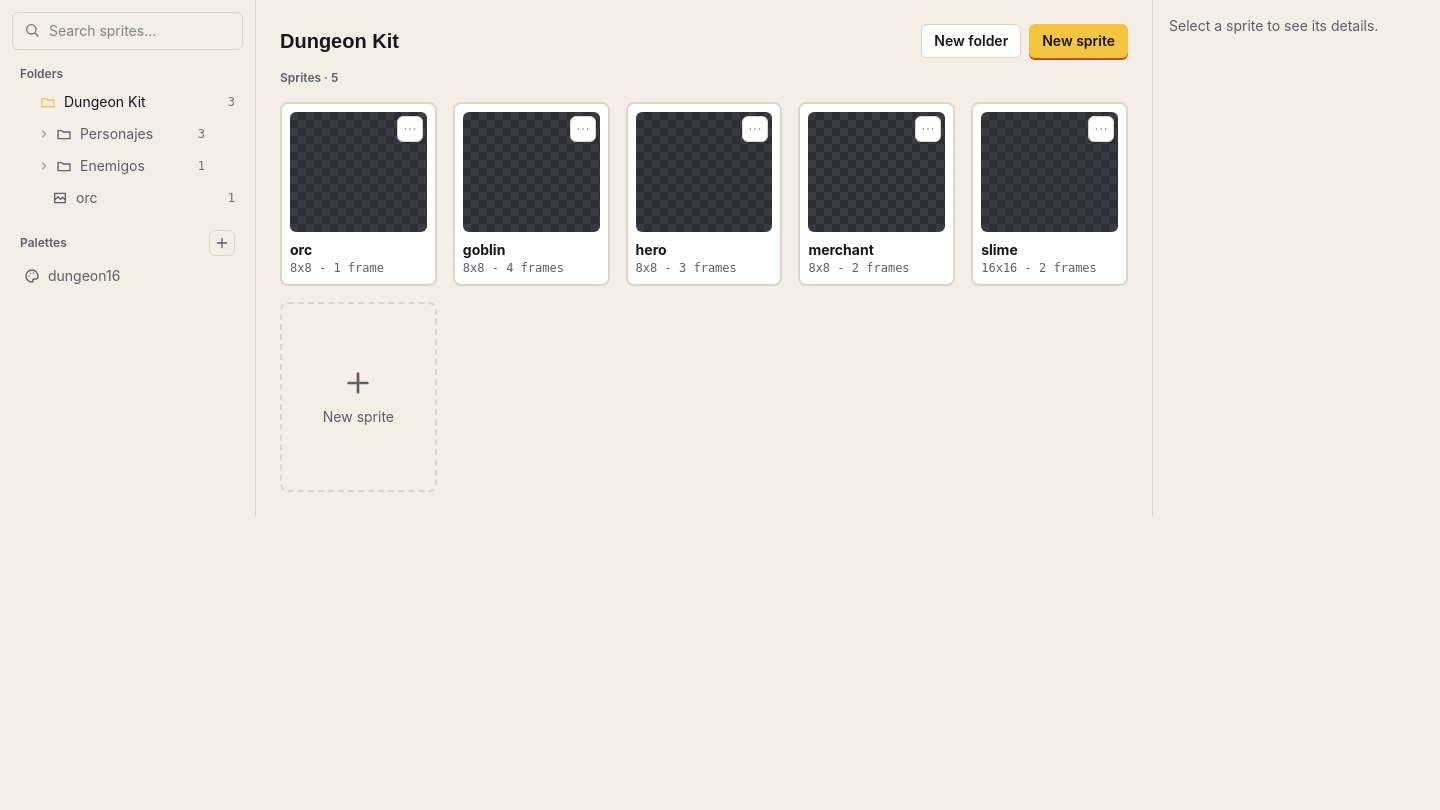
Test: New sprite dialog › creates a sprite with a custom size and opens it
This screenshot has width=1440, height=810.
Click the 1st button "New sprite": (1079, 41) [1029,24,1128,58]
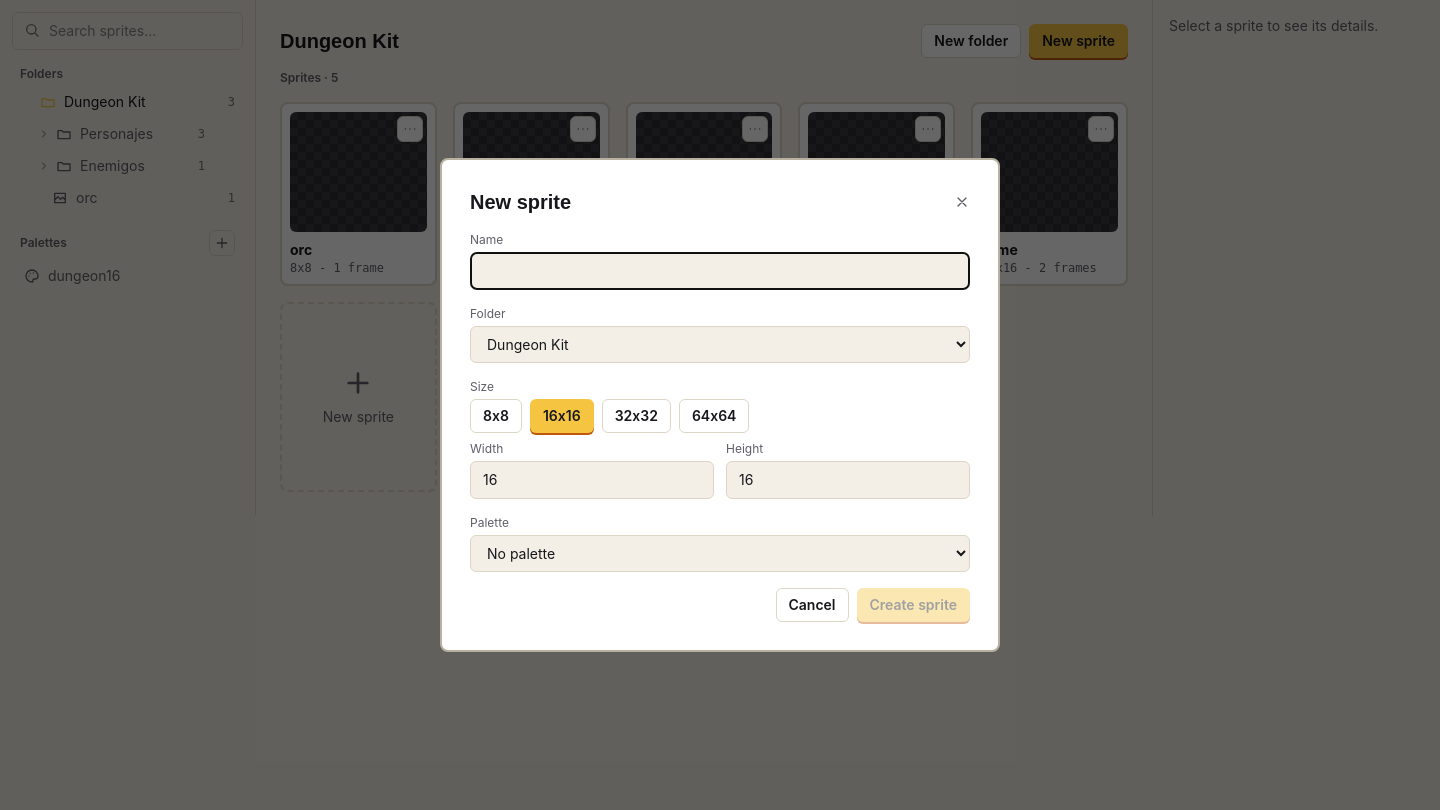
In the field labelled "Name": (720, 271) [470,252,970,290], type "goblin"
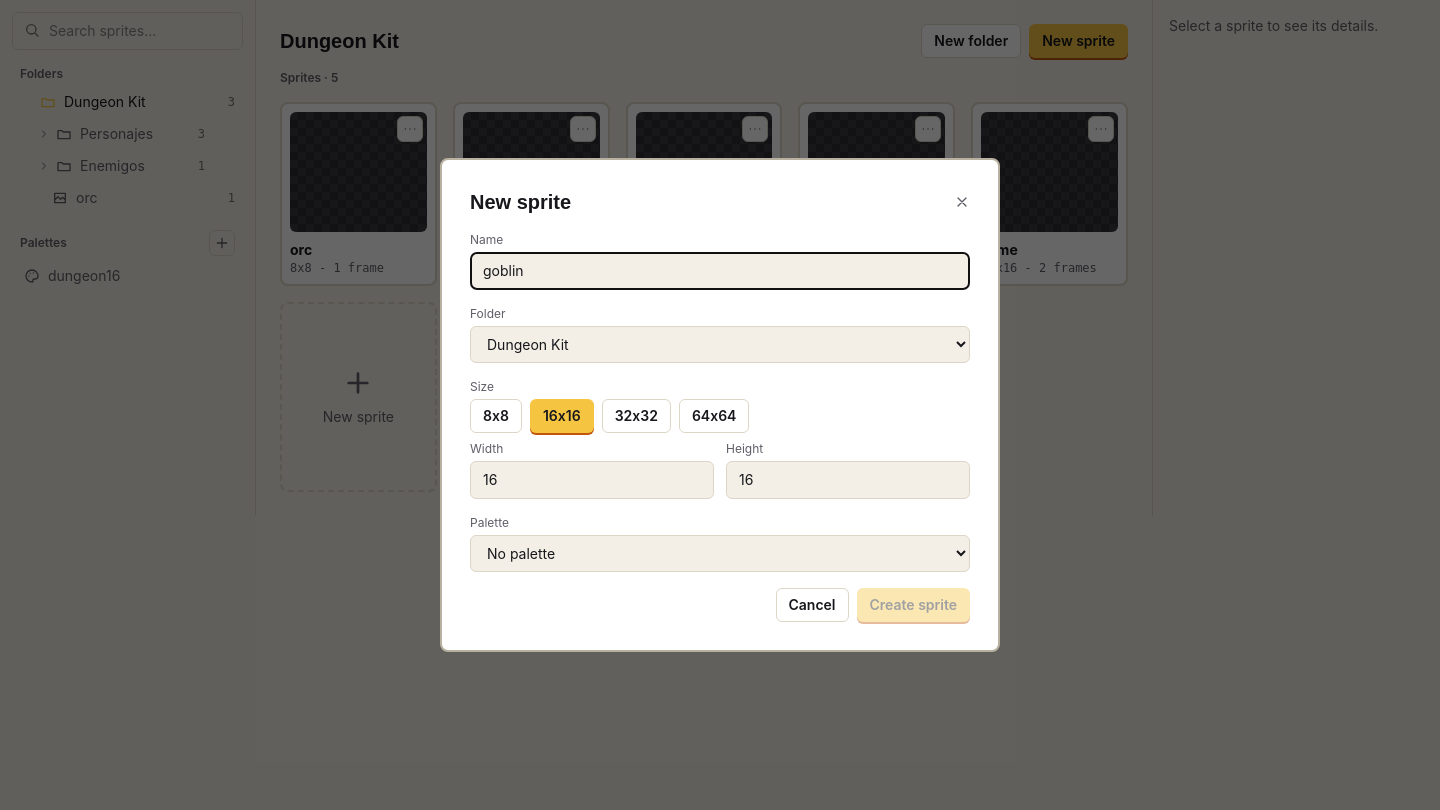
Replace the text in the number field labelled "Width" with "120": (592, 480) [470,461,714,499]
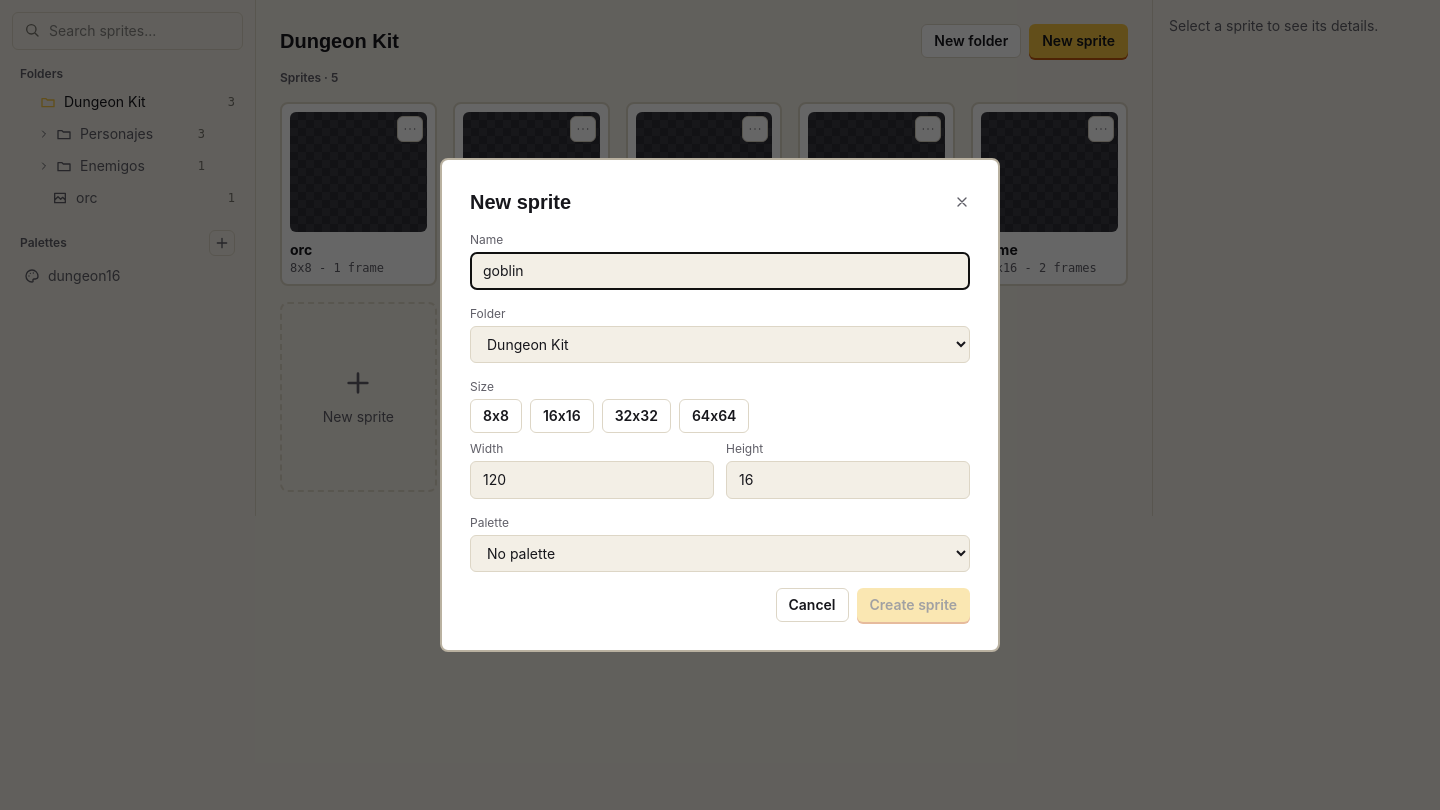
Replace the text in the number field labelled "Height" with "30": (848, 480) [726,461,970,499]
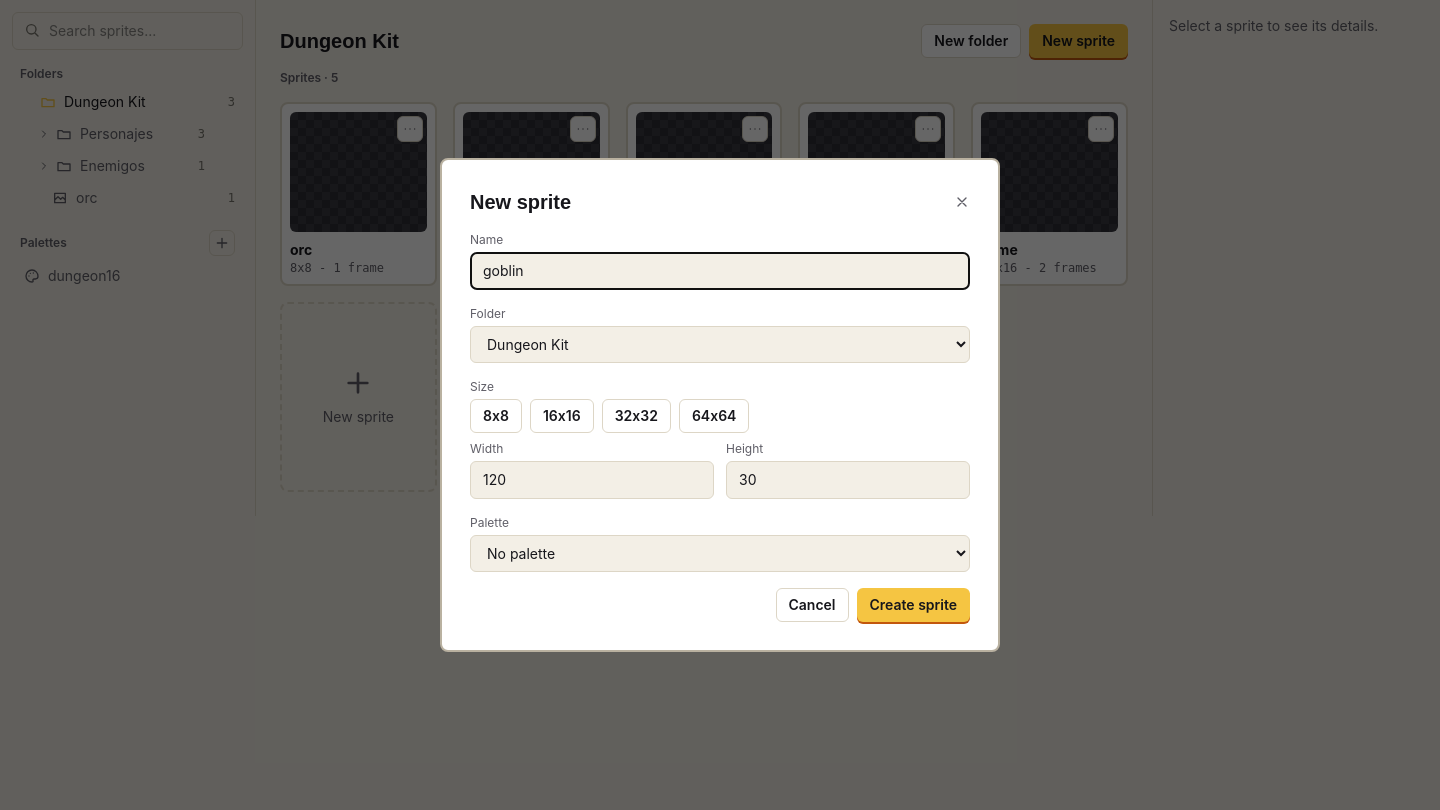
Click the button "Create sprite": (913, 605) [856,588,970,622]
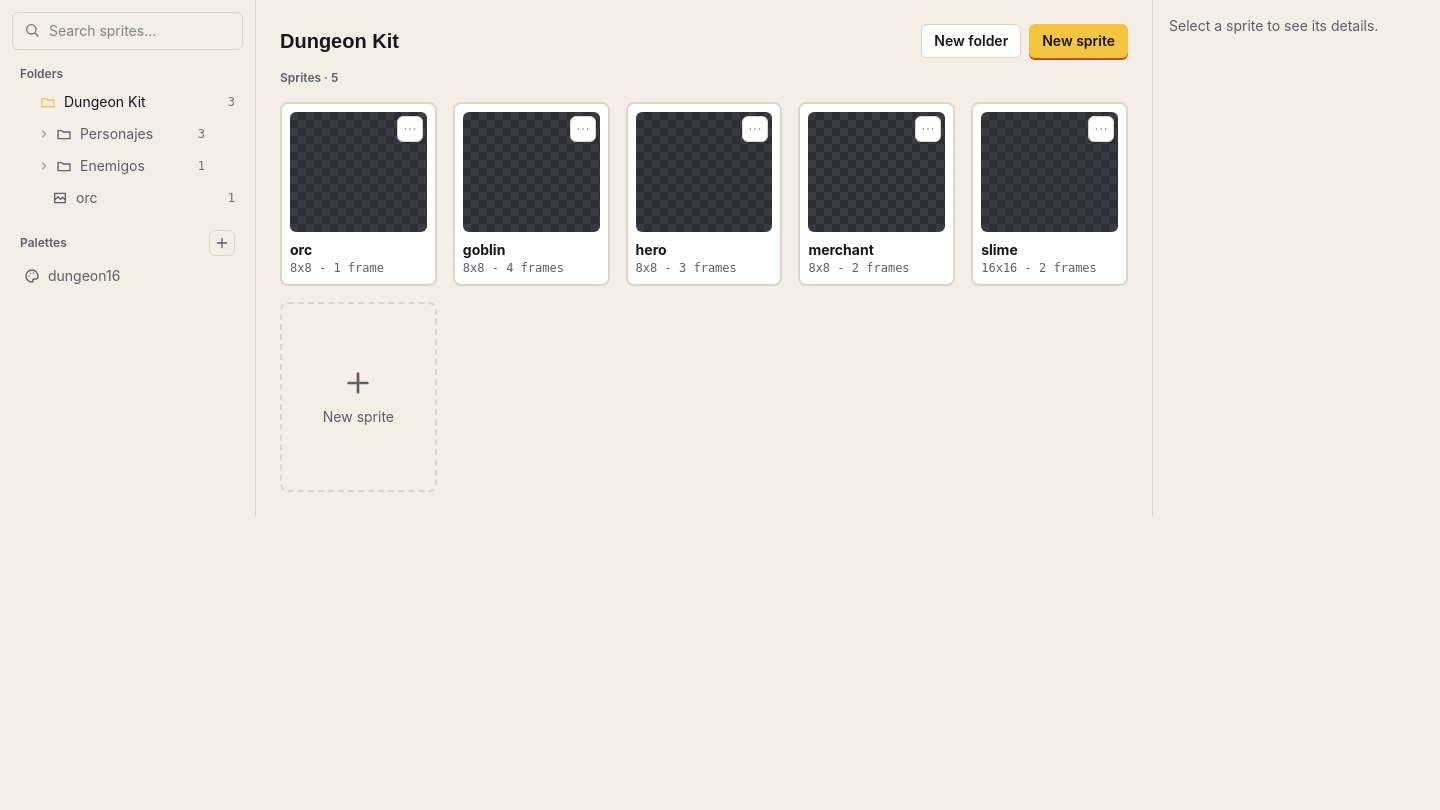
Expected: the dialog is gone
